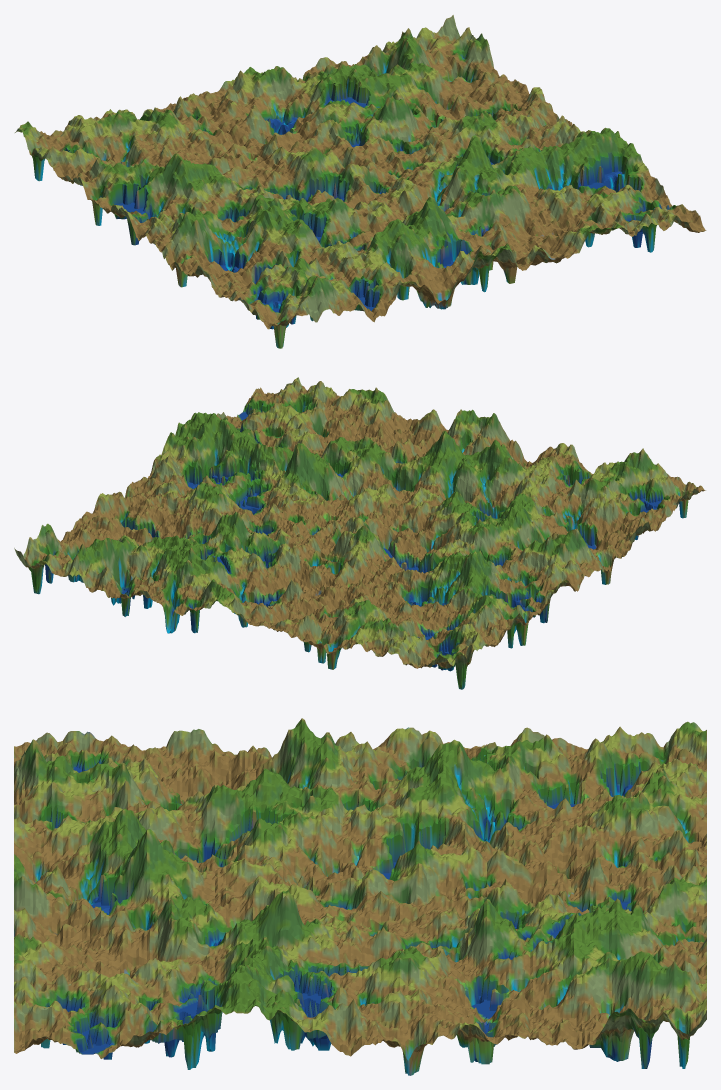
The model's file is landscape_MOUNTAIN_v1.obj.
3 views of the same model, one above another, from view 1: azimuth 30°, elevation 25°; view 2: azimuth 150°, elevation 25°; view 3: azimuth 270°, elevation 25° (orthographic). The views are drawn at different scales.
Visible parts, largest first — view 1: terrain_MOUNTAIN; view 2: terrain_MOUNTAIN; view 3: terrain_MOUNTAIN.
Boxes of the visible parts, <box> form: terrain_MOUNTAIN: <box>15,15,706,348</box>; terrain_MOUNTAIN: <box>14,377,705,689</box>; terrain_MOUNTAIN: <box>14,718,706,1075</box>.
Size of the model in its own units: 255 by 39.87 by 255.
Materials: 1 (1 with a texture image).
